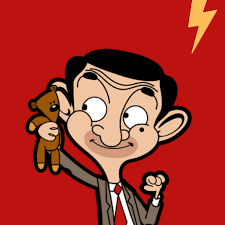mrbean: (14, 39, 200, 216)
